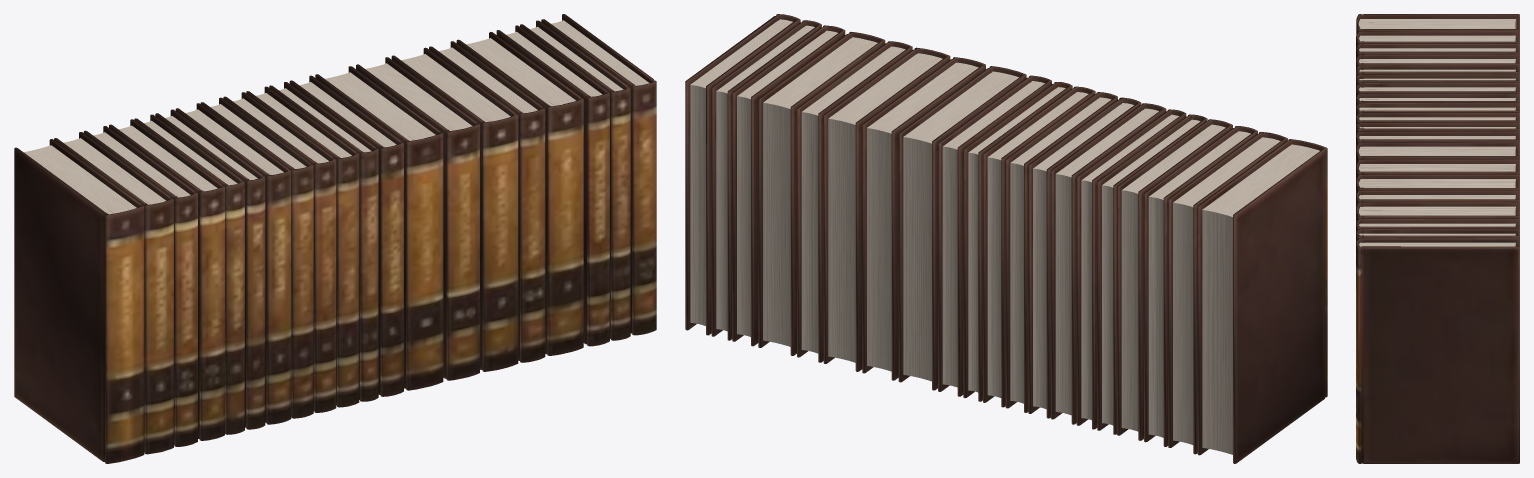
File: book_encyclopedia_set_01.glb
3 views of the same model, side by side, from view 1: azimuth 30°, elevation 25°; view 2: azimuth 150°, elevation 25°; view 3: azimuth 270°, elevation 25° (orthographic). The views are drawn at different scales.
Parts seen in each view (by area): view 1: book_encyclopedia_set_01_book01; view 2: book_encyclopedia_set_01_book01; view 3: book_encyclopedia_set_01_book01.
Boxes of the visible parts, <box> form: book_encyclopedia_set_01_book01: <box>14,14,656,463</box>; book_encyclopedia_set_01_book01: <box>685,14,1327,463</box>; book_encyclopedia_set_01_book01: <box>1356,14,1519,463</box>.
Size of the model in its own units: 0.5513 by 0.2374 by 0.1631.
2 materials, 2 textured.
